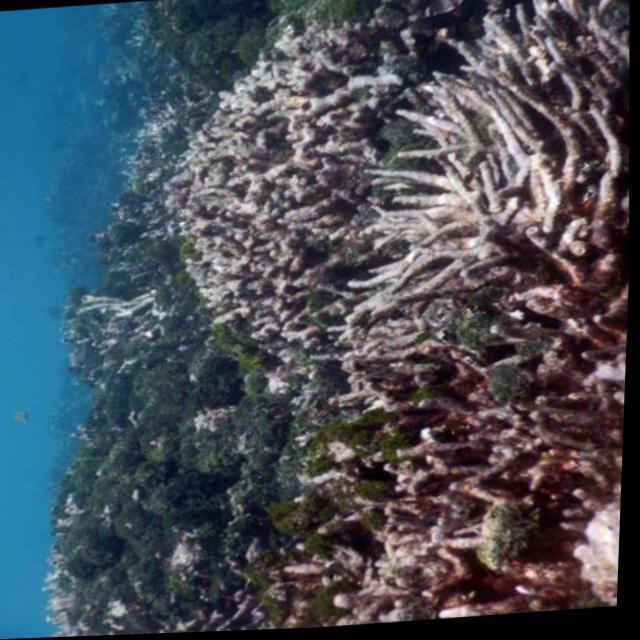Dead Coral: (172, 8, 608, 324)
